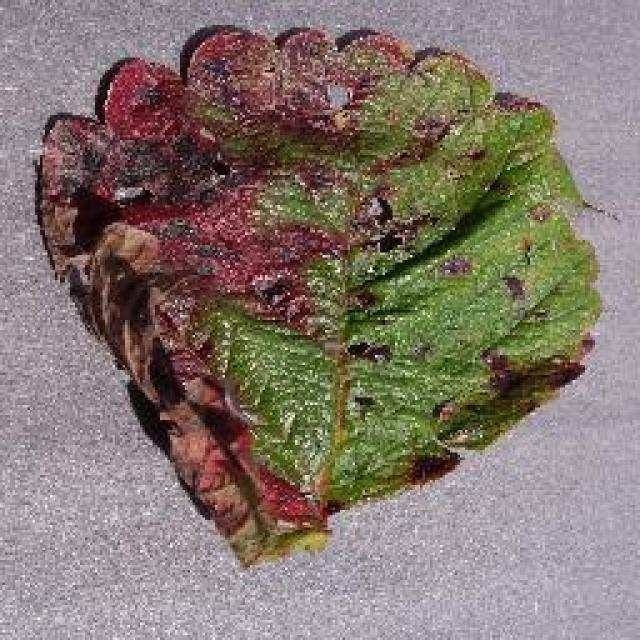Strawberry___Leaf_scorch: (48, 36, 567, 538)
